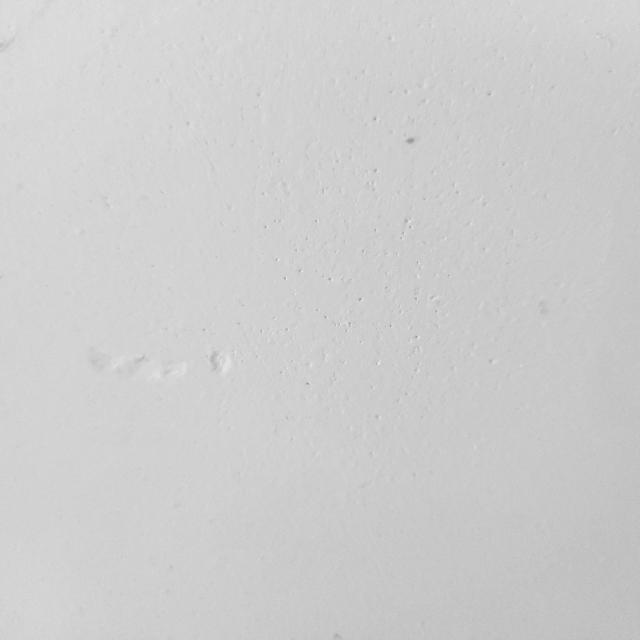rough and patchy surface: (232, 12, 571, 278), (282, 277, 511, 454), (68, 316, 286, 414)
